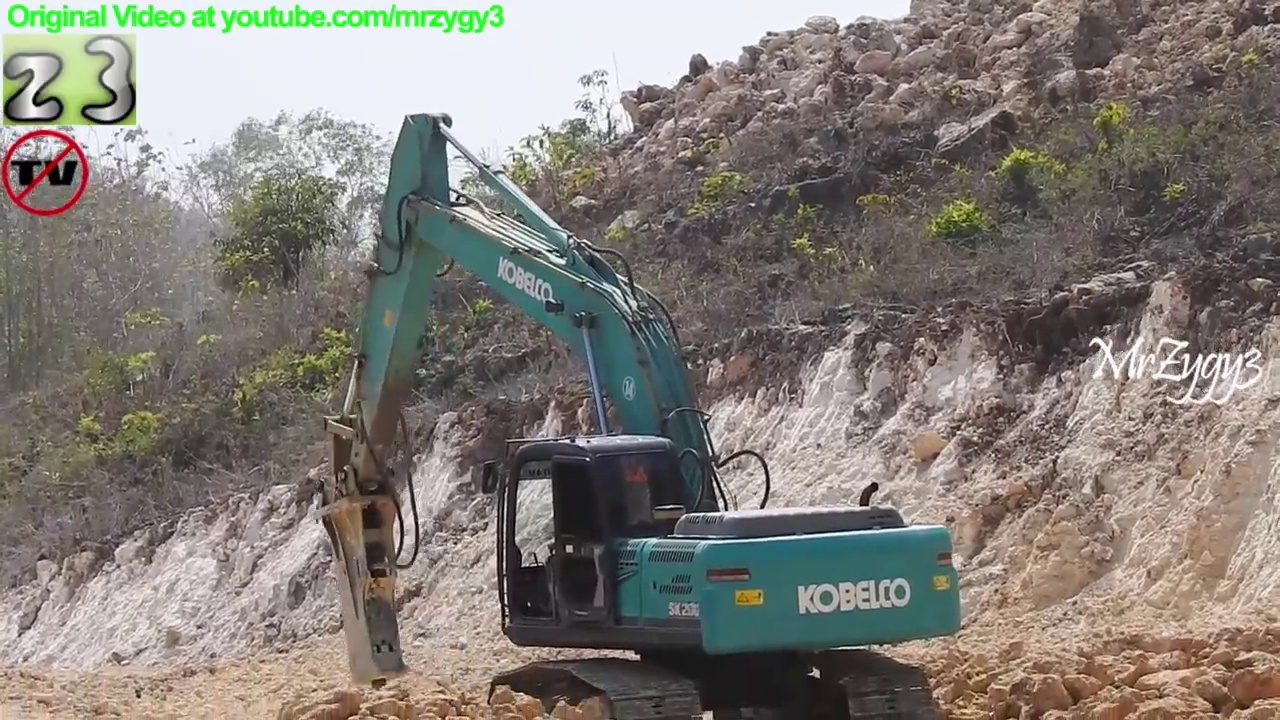excavator breaker: (313, 109, 968, 720)
